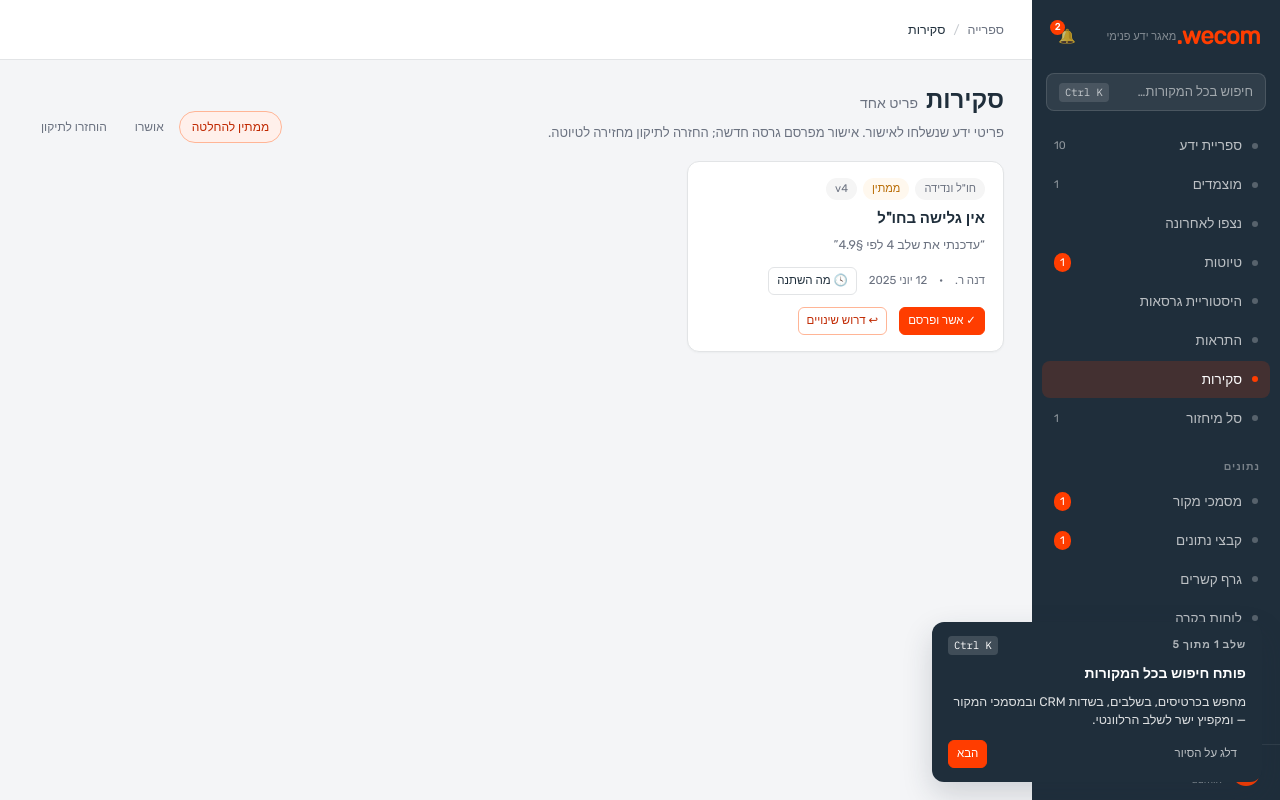
<ReviewsPage> — the lead’s decision › refuses to return a document for changes without saying what to change
The width and height of the screenshot is (1280, 800).
Click the button "↩ דרוש שינויים": (842, 321) x1=798 y1=307 x2=887 y2=334
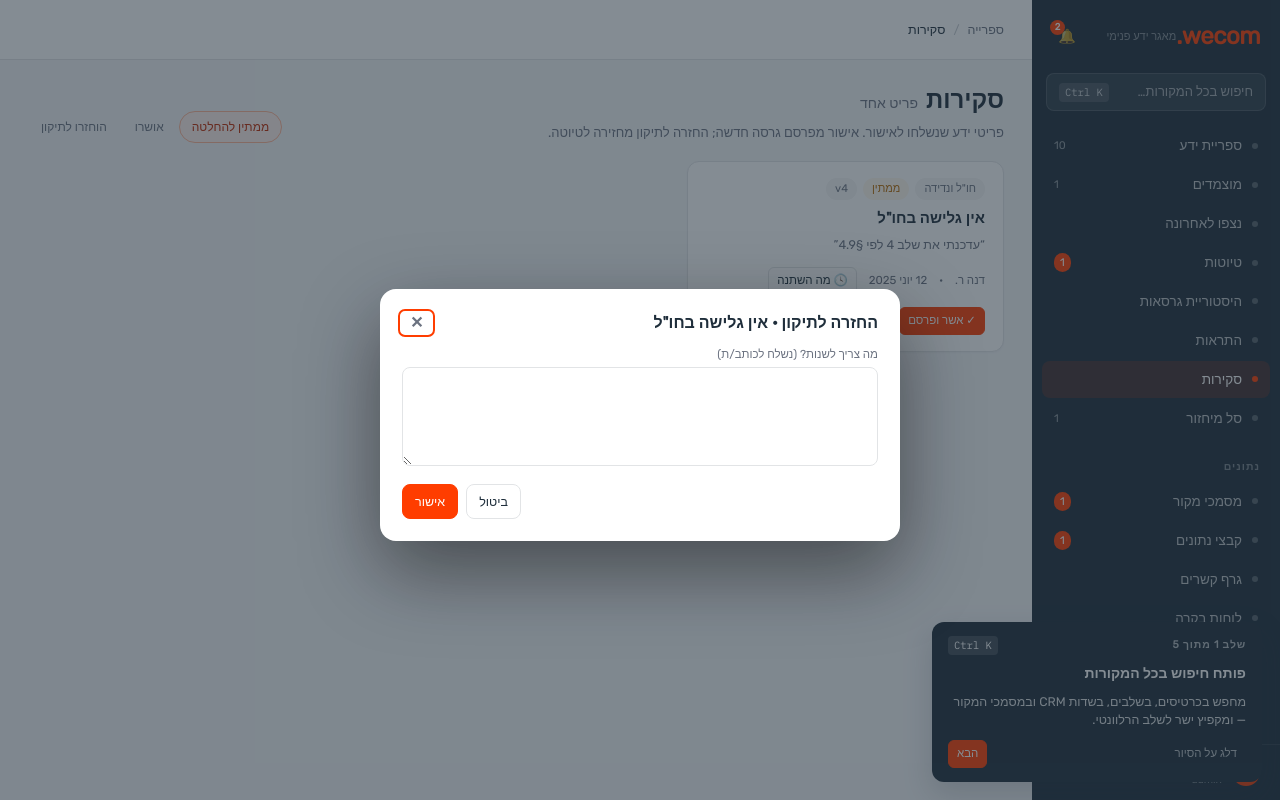
Click the button "אישור": (430, 502) x1=402 y1=484 x2=458 y2=519
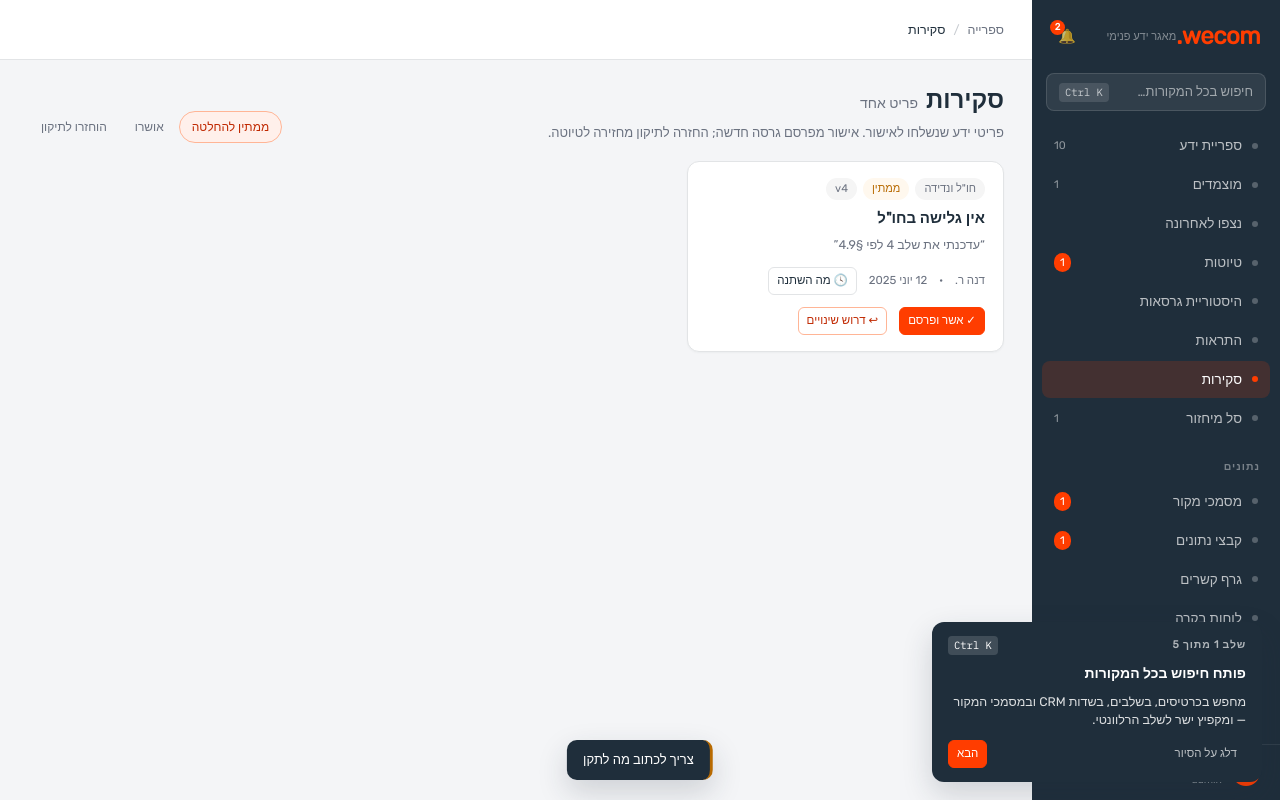
Expected: the text "צריך לכתוב מה לתקן" is shown, x1=583 y1=750 x2=694 y2=770
